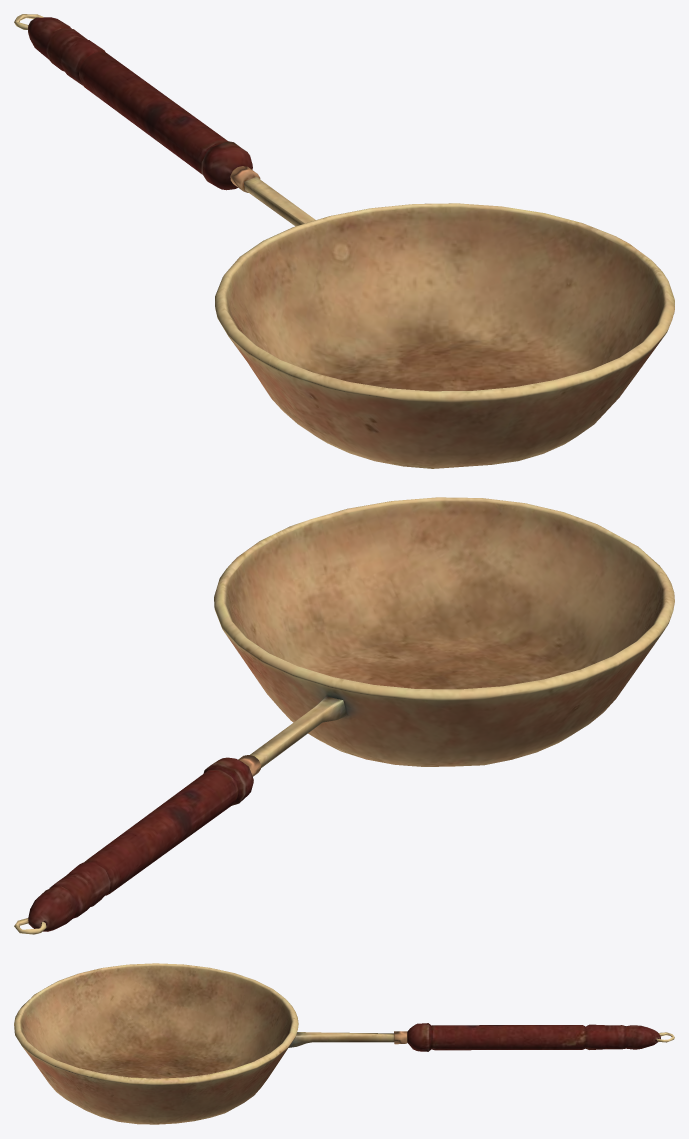
File: brass_pan_01.glb
The picture shows the model from 3 angles, top to bottom: view 1: azimuth 30°, elevation 25°; view 2: azimuth 150°, elevation 25°; view 3: azimuth 270°, elevation 25°; orthographic projection. The views are drawn at different scales.
Parts seen in each view (by area): view 1: brass_pan_01; view 2: brass_pan_01; view 3: brass_pan_01.
Part boxes in pixels (x1,y1,x2,y2): brass_pan_01: [14, 14, 674, 468]; brass_pan_01: [14, 497, 674, 934]; brass_pan_01: [14, 963, 674, 1124].
Size of the model in its own units: 0.1912 by 0.0523 by 0.4496.
Materials: 1 (1 with a texture image).
